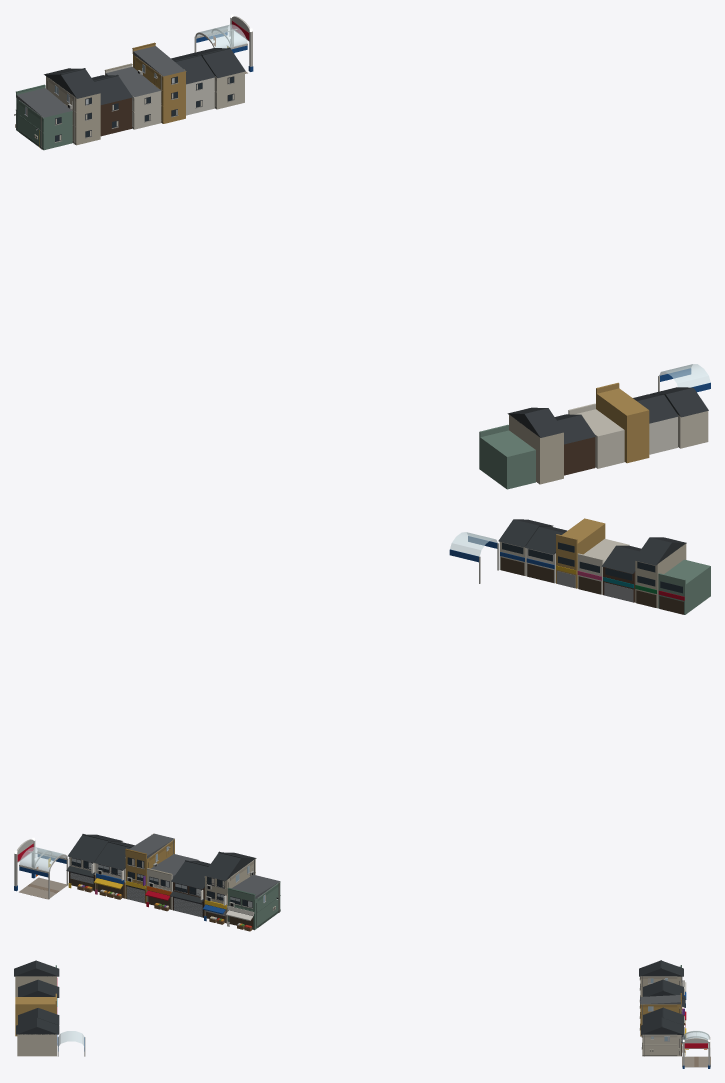
File: shophouse.glb
The picture shows the model from 3 angles, top to bottom: view 1: azimuth 30°, elevation 25°; view 2: azimuth 150°, elevation 25°; view 3: azimuth 270°, elevation 25°; orthographic projection. The views are drawn at different scales.
Parts seen in each view (by area): view 1: shophouse_a_body, shophouse_a_lo_mesh, shophouse_b_body, shophouse_b_lo_mesh, shophouse_e_lo_mesh, shophouse_e_body, shophouse_g_lo_mesh, shophouse_g_body, shophouse_d_body, shophouse_c_body, shophouse_d_lo_mesh, shophouse_c_lo_mesh (+4 smaller); view 2: shophouse_a_body, shophouse_a_lo_mesh, shophouse_b_lo_mesh, shophouse_b_body, shophouse_e_lo_mesh, shophouse_e_body, shophouse_c_lo_mesh, shophouse_c_body, shophouse_arcade_body, shophouse_g_body, shophouse_g_lo_mesh, shophouse_f_lo_mesh (+4 smaller); view 3: shophouse_g_body, shophouse_g_lo_mesh, shophouse_b_body, shophouse_b_lo_mesh, shophouse_e_body, shophouse_e_lo_mesh, shophouse_c_lo_mesh, shophouse_c_body, shophouse_arcade_body, shophouse_f_body, shophouse_f_lo_mesh, shophouse_arcade_lo_mesh (+1 smaller).
Boxes of the visible parts, x1,y1,x2,y2 form: shophouse_a_body: [14, 84, 72, 150]; shophouse_a_lo_mesh: [479, 424, 535, 489]; shophouse_b_body: [44, 68, 101, 145]; shophouse_b_lo_mesh: [507, 407, 564, 484]; shophouse_e_lo_mesh: [596, 382, 649, 463]; shophouse_e_body: [132, 42, 186, 123]; shophouse_g_lo_mesh: [650, 387, 708, 448]; shophouse_g_body: [186, 47, 245, 109]; shophouse_d_body: [104, 63, 161, 129]; shophouse_c_body: [92, 74, 132, 136]; shophouse_d_lo_mesh: [568, 403, 624, 468]; shophouse_c_lo_mesh: [555, 414, 595, 475]; shophouse_a_body: [226, 875, 280, 931]; shophouse_a_lo_mesh: [658, 559, 710, 614]; shophouse_b_lo_mesh: [634, 537, 686, 608]; shophouse_b_body: [203, 851, 256, 924]; shophouse_e_lo_mesh: [556, 518, 605, 588]; shophouse_e_body: [125, 833, 174, 903]; shophouse_c_lo_mesh: [601, 545, 641, 602]; shophouse_c_body: [170, 860, 210, 917]; shophouse_arcade_body: [19, 847, 68, 899]; shophouse_g_body: [66, 834, 122, 892]; shophouse_g_lo_mesh: [498, 519, 553, 575]; shophouse_f_lo_mesh: [525, 527, 567, 583]; shophouse_g_body: [641, 1017, 685, 1056]; shophouse_g_lo_mesh: [16, 1018, 59, 1056]; shophouse_b_body: [639, 960, 686, 1007]; shophouse_b_lo_mesh: [14, 960, 59, 996]; shophouse_e_body: [639, 993, 684, 1036]; shophouse_e_lo_mesh: [15, 993, 56, 1036]; shophouse_c_lo_mesh: [18, 979, 59, 1006]; shophouse_c_body: [643, 979, 685, 1007]; shophouse_arcade_body: [682, 1031, 710, 1067]; shophouse_f_body: [643, 1007, 686, 1044]; shophouse_f_lo_mesh: [18, 1008, 59, 1025]; shophouse_arcade_lo_mesh: [57, 1031, 85, 1056].
Bounding box in the file's own units: 44.92 × 10.7 × 167.
